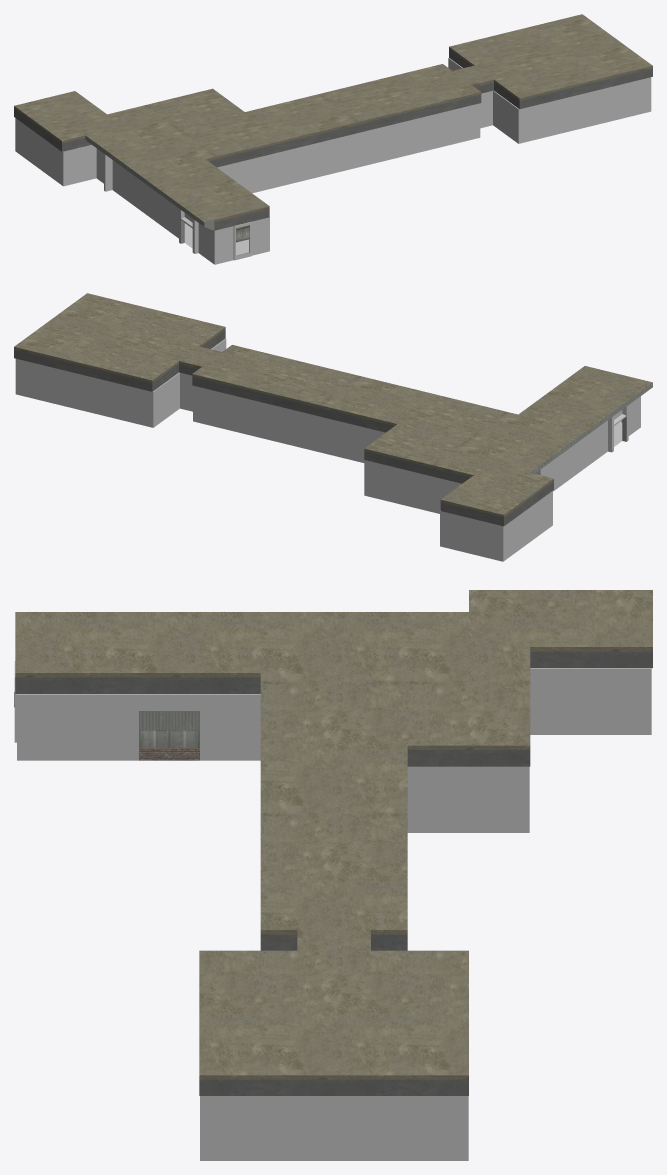
The model's file is sydacad.obj.
3 views of the same model, one above another, from view 1: azimuth 30°, elevation 25°; view 2: azimuth 150°, elevation 25°; view 3: azimuth 270°, elevation 25° (orthographic). The views are drawn at different scales.
Parts seen in each view (by area): view 1: Cube, Cube.001; view 2: Cube; view 3: Cube.
Boxes of the visible parts, box(x1,y1,x2,y2) form: Cube: box(14, 14, 652, 264); Cube.001: box(233, 222, 251, 260); Cube: box(14, 293, 652, 561); Cube: box(15, 590, 652, 1160).
Bounding box in the file's own units: 235 × 19.68 × 131.
